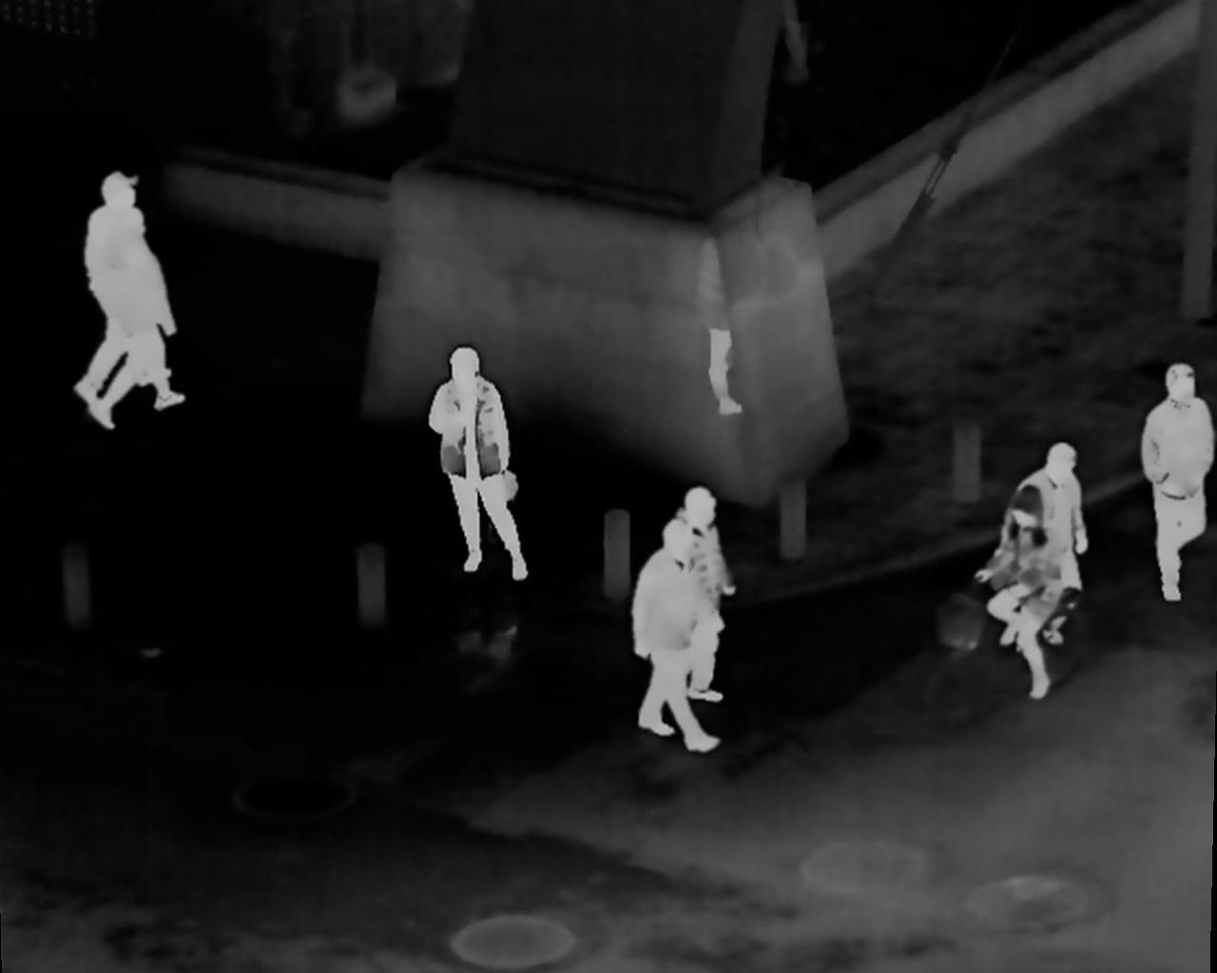person: (421, 336, 533, 582), (73, 173, 171, 400), (88, 209, 186, 429), (633, 519, 719, 753), (975, 482, 1060, 703), (1014, 439, 1091, 645), (1143, 365, 1208, 601), (666, 487, 735, 702)
